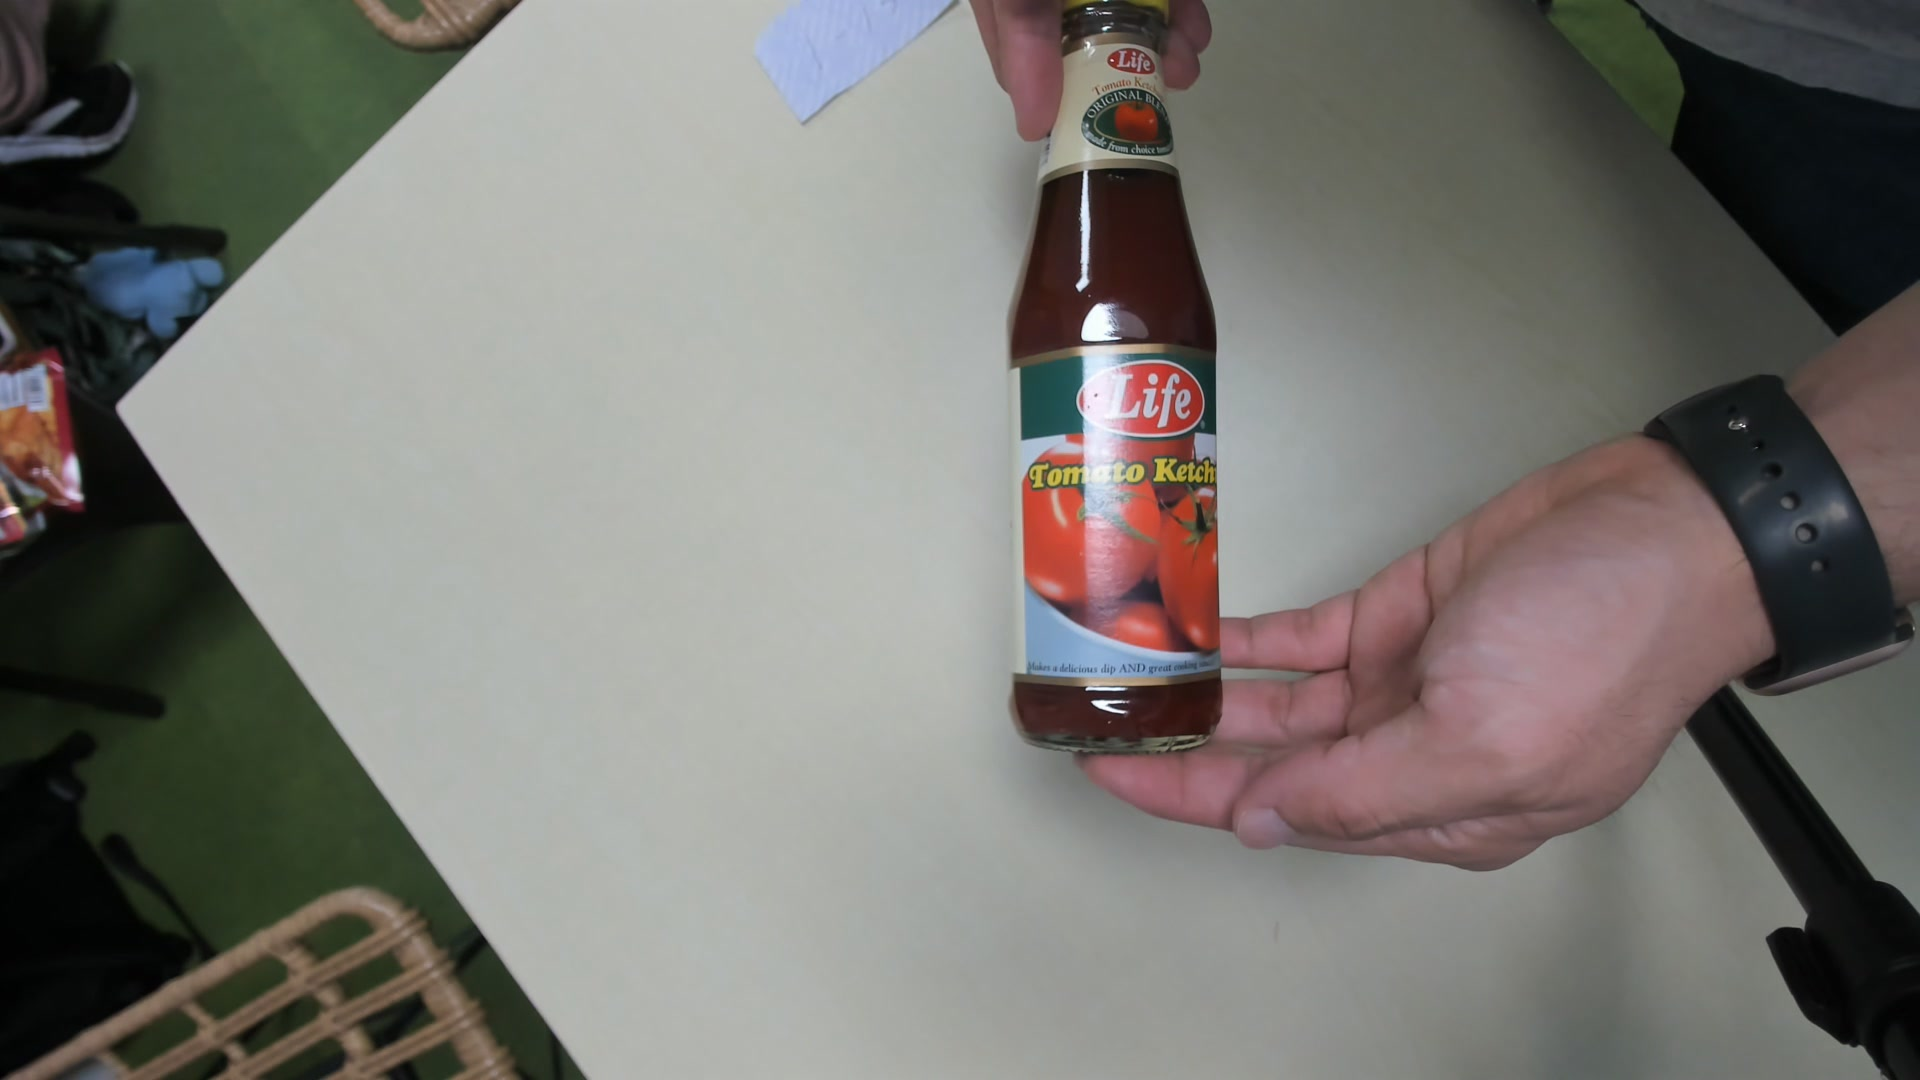KetchupChillSauce_300-399g_Halal_NonHealthy: (1002, 1, 1234, 756)
